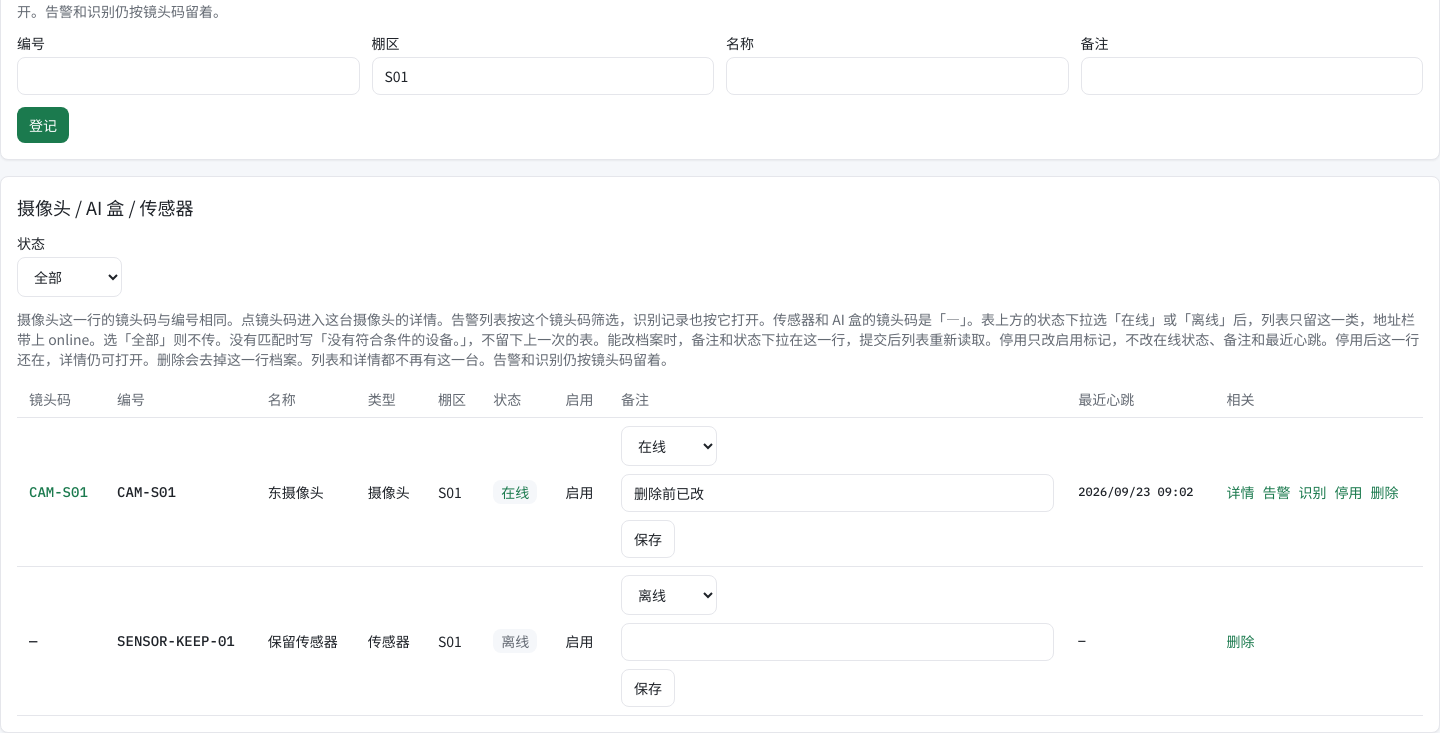
Test: DevicesView batch import › deletes a camera and drops it from the reloaded list
(page scrolled)
Expected: the button with test id "device-delete-SENSOR-KEEP-01" reads "删除", left=1226, top=631, right=1254, bottom=651
Click the button with test id "device-delete-CAM-S01" at (1384, 492), box left=1370, top=482, right=1398, bottom=502
(page scrolled)
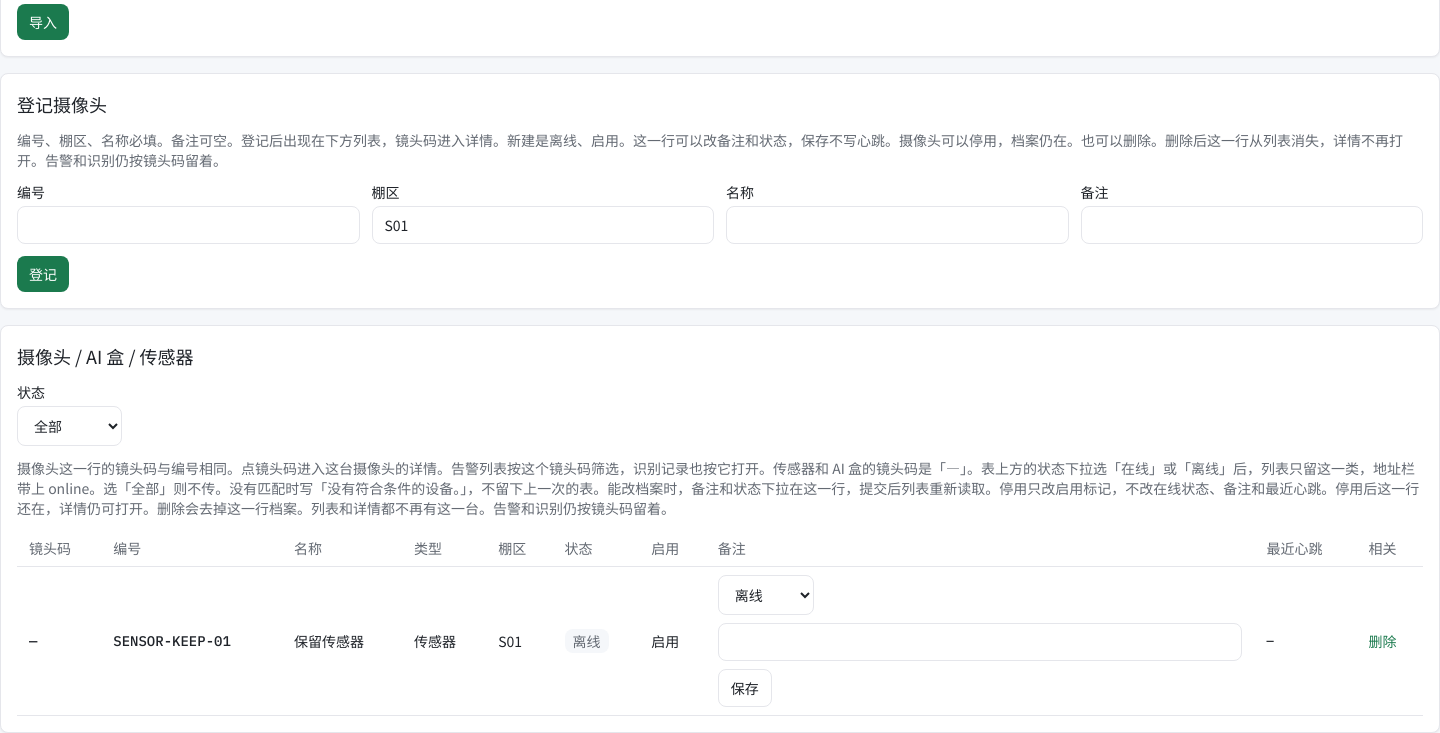
Expected: the cell "SENSOR-KEEP-01" is shown, left=101, top=566, right=282, bottom=716
Result: the text "CAM-S01" is gone
